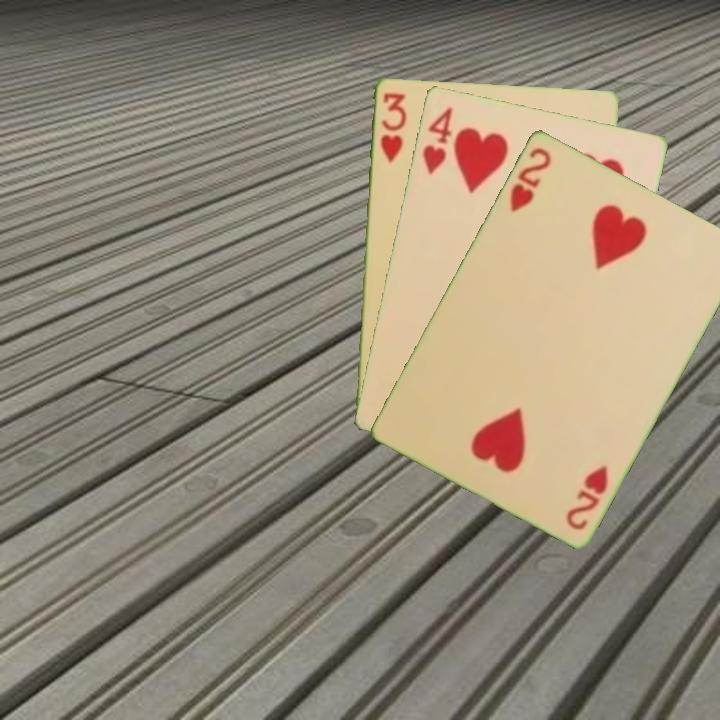2h: (562, 460, 611, 533), (506, 143, 554, 215)
3h: (376, 89, 408, 165)
4h: (418, 102, 455, 178)
